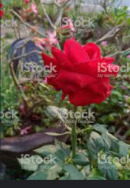RedRose: (40, 37, 119, 109)
